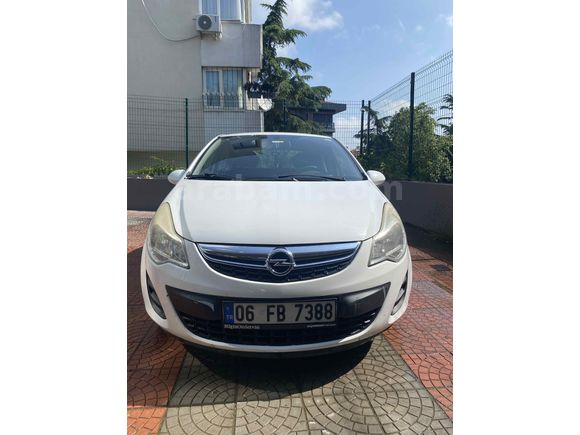plate: (228, 299, 335, 324)
